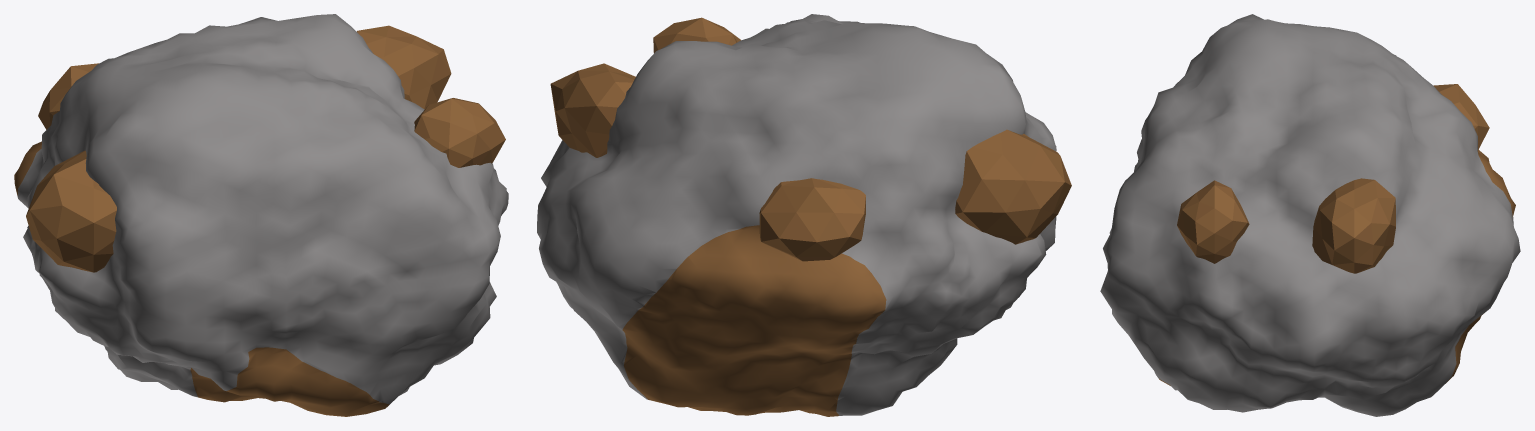
Rendered from brown_limonite_surface.glb.
3 views of the same model, side by side, from view 1: azimuth 30°, elevation 25°; view 2: azimuth 150°, elevation 25°; view 3: azimuth 270°, elevation 25° (orthographic). The views are drawn at different scales.
Visible parts, largest first — view 1: brown_limonite_surface; view 2: brown_limonite_surface; view 3: brown_limonite_surface.
Part boxes in pixels (x1,y1,x2,y2): brown_limonite_surface: (14,14,508,416); brown_limonite_surface: (537,14,1071,416); brown_limonite_surface: (1100,14,1520,416).
Bounding box in the file's own units: 1.13 × 0.7814 × 0.9429.
